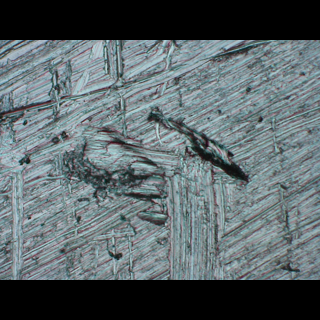d: (21, 103, 253, 231)
